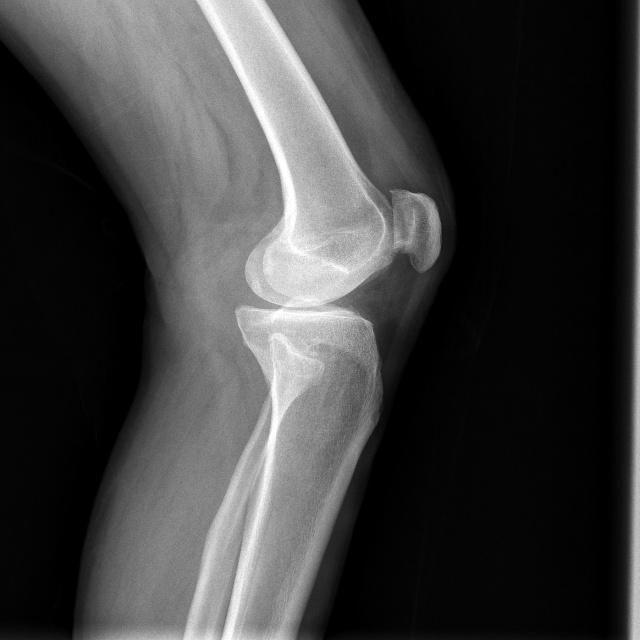Knee: (235, 184, 444, 372)
